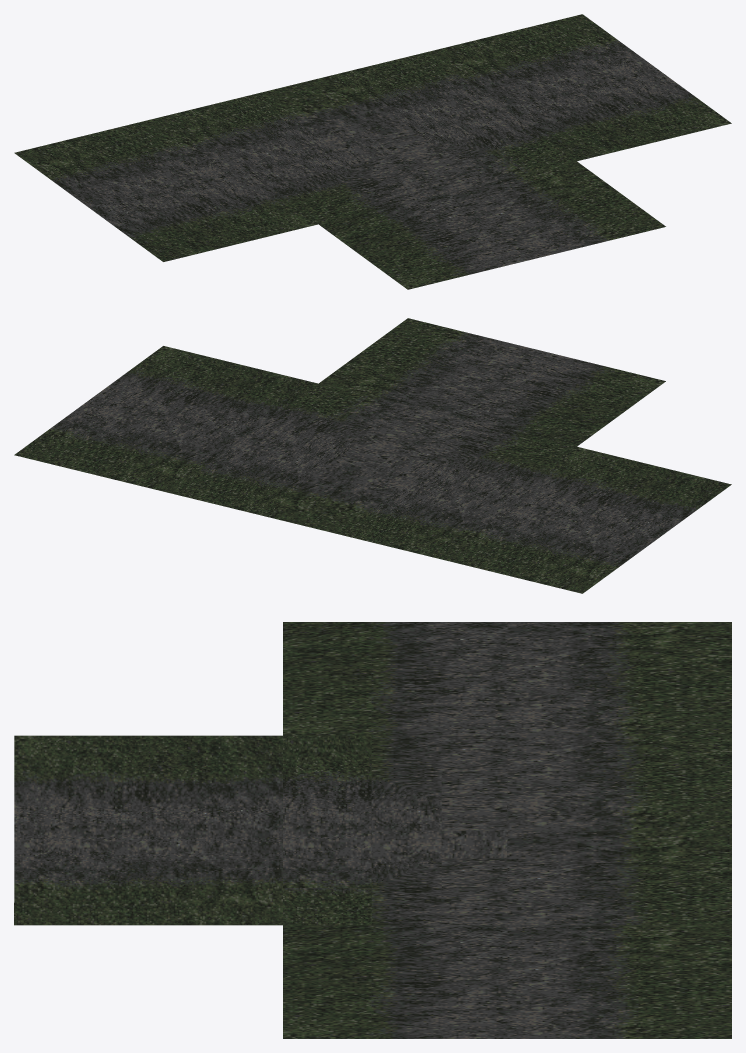
The model's file is SM_EC_Path_Mud_08.fbx.
3 renders of one model, top to bottom at view 1: azimuth 30°, elevation 25°; view 2: azimuth 150°, elevation 25°; view 3: azimuth 270°, elevation 25°, orthographic. The views are drawn at different scales.
Visible parts, largest first — view 1: SM_EC_Path_Mud_08; view 2: SM_EC_Path_Mud_08; view 3: SM_EC_Path_Mud_08.
Part boxes in pixels (box(x1,y1,x2,y2)): SM_EC_Path_Mud_08: box(14, 14, 731, 289); SM_EC_Path_Mud_08: box(14, 318, 731, 593); SM_EC_Path_Mud_08: box(14, 622, 731, 1038).
Bounding box in the file's own units: 6.61 × 4.81 × 0.
